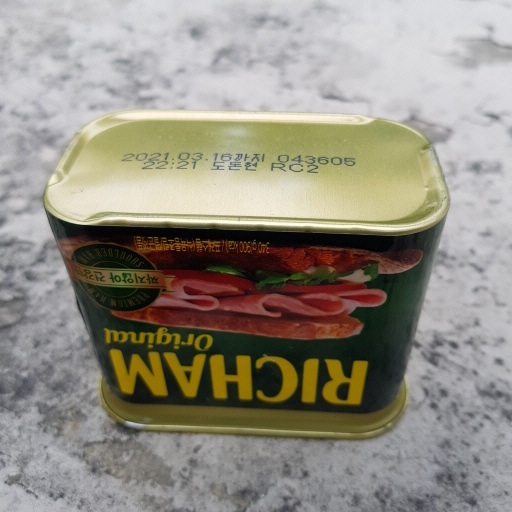Metal_2: (44, 110, 448, 439)
